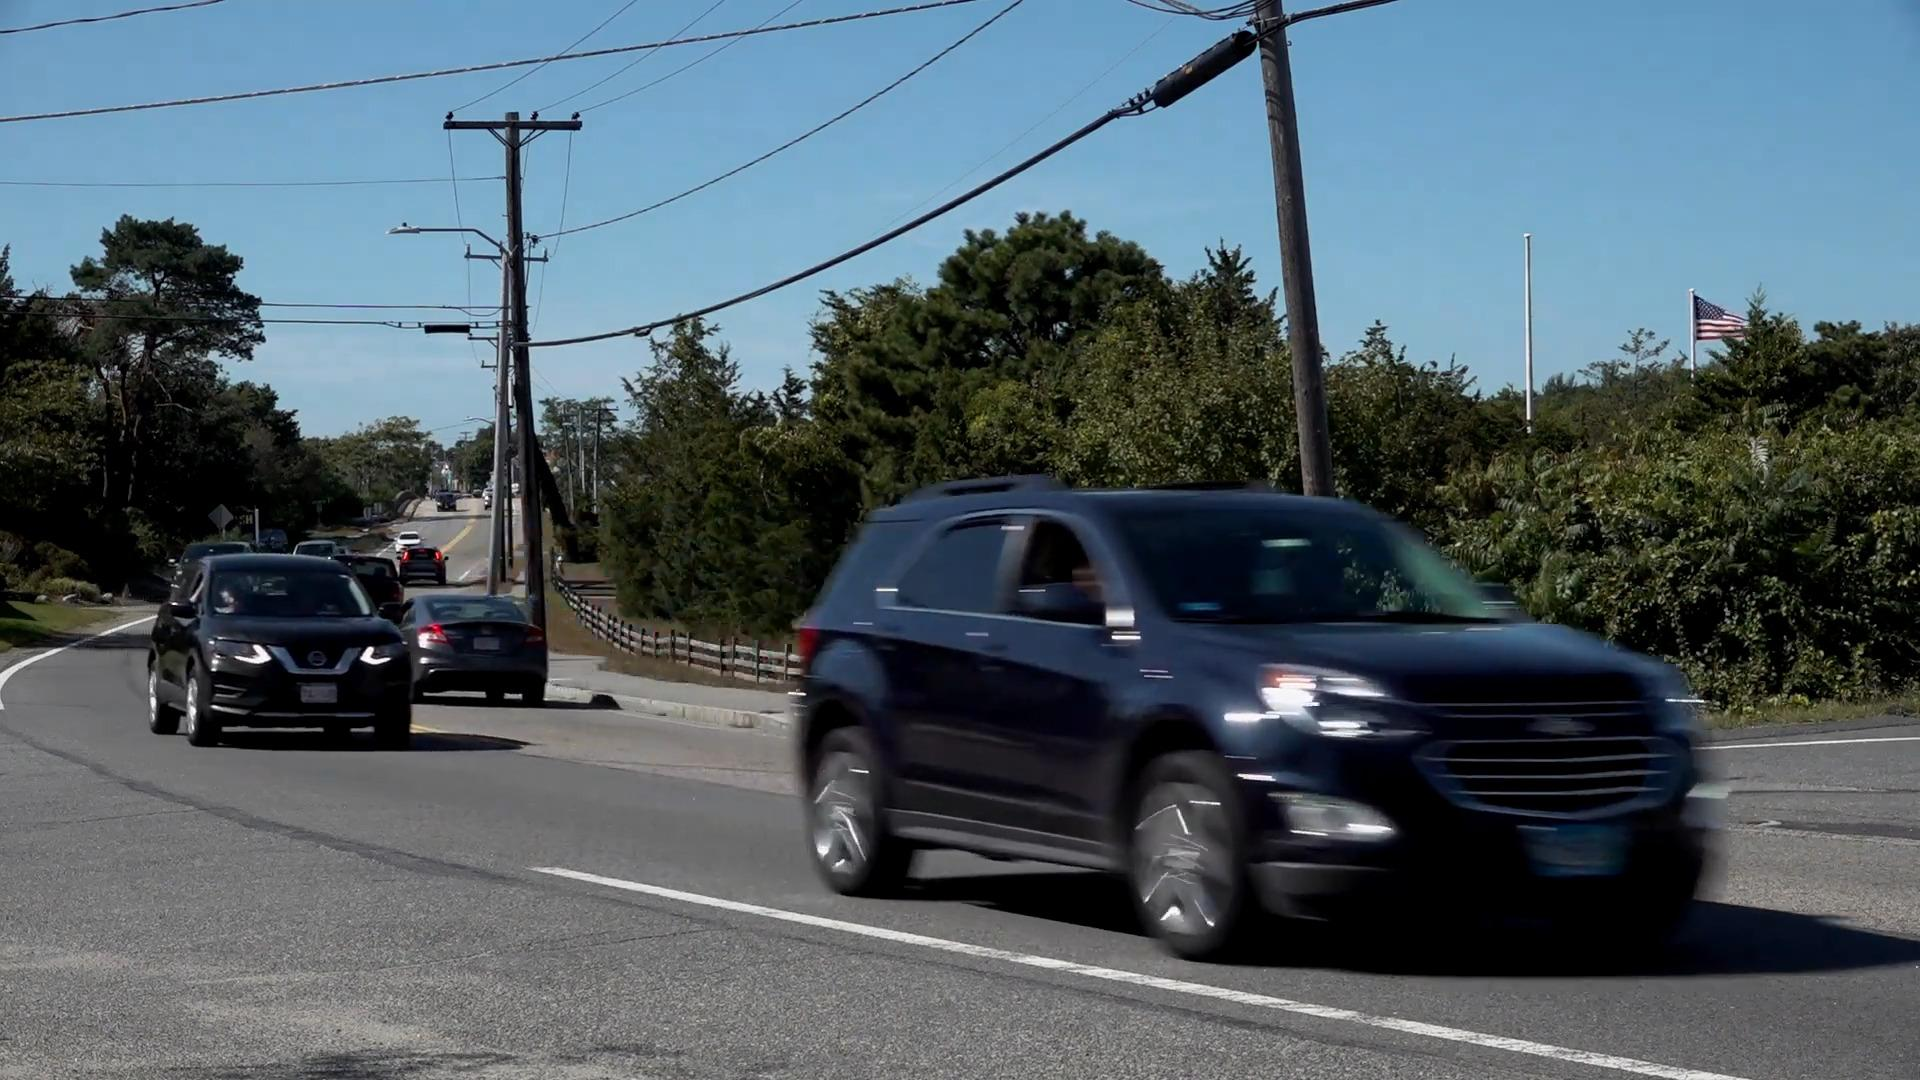sedans: (396, 588, 551, 706)
suv: (794, 474, 1723, 966), (148, 548, 414, 751)
